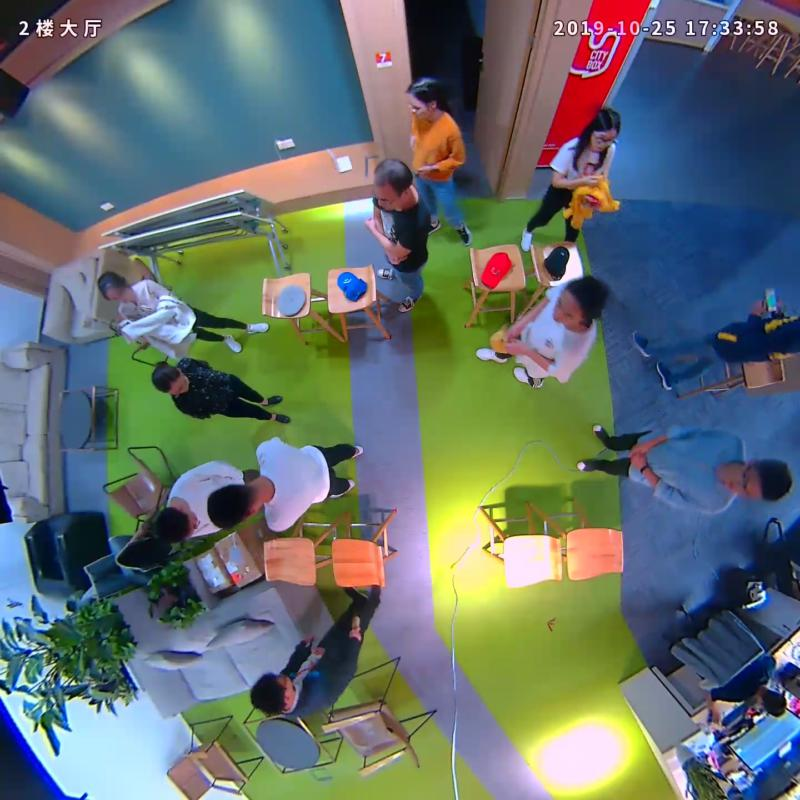head: (726, 458, 793, 501), (552, 275, 602, 324), (207, 483, 260, 529), (372, 157, 414, 210), (404, 75, 446, 123), (250, 669, 294, 714), (153, 505, 199, 544), (150, 362, 189, 396), (589, 108, 620, 150), (96, 271, 133, 305)
